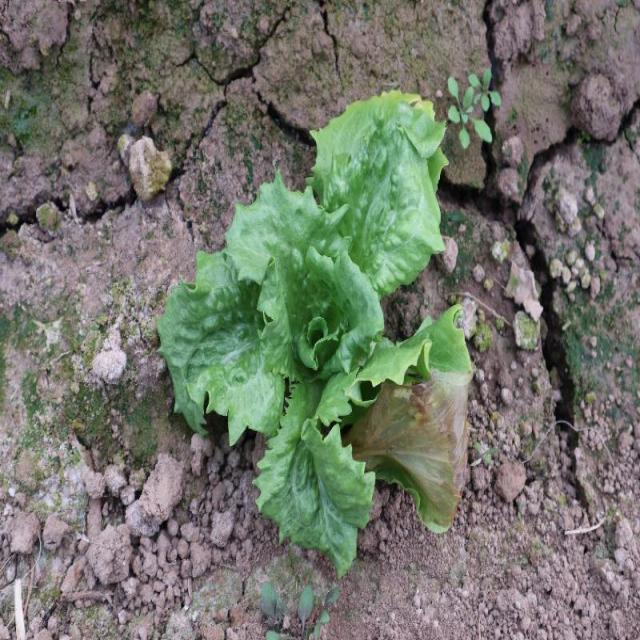crop: (156, 91, 476, 574)
